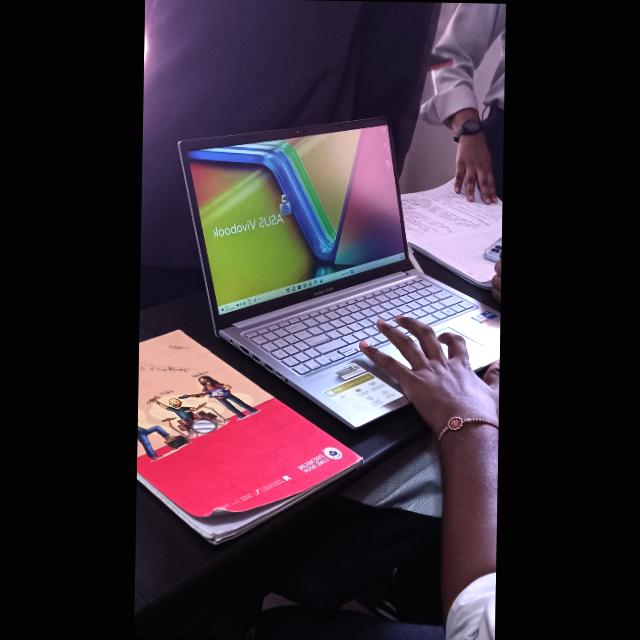laptop: (149, 118, 476, 348)
